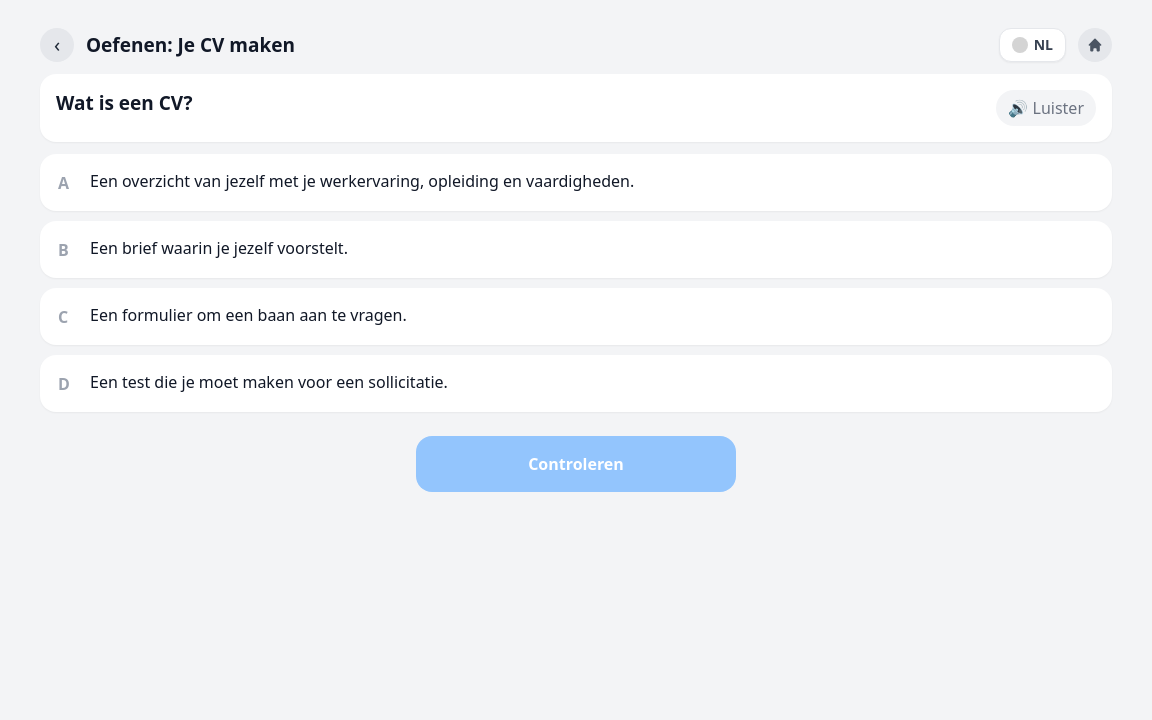
Test: selecting wrong answer (B) shows negative feedback
Click the text "Een brief waarin je jezelf voorstelt.". click: (219, 248)
box: [90,237,348,259]
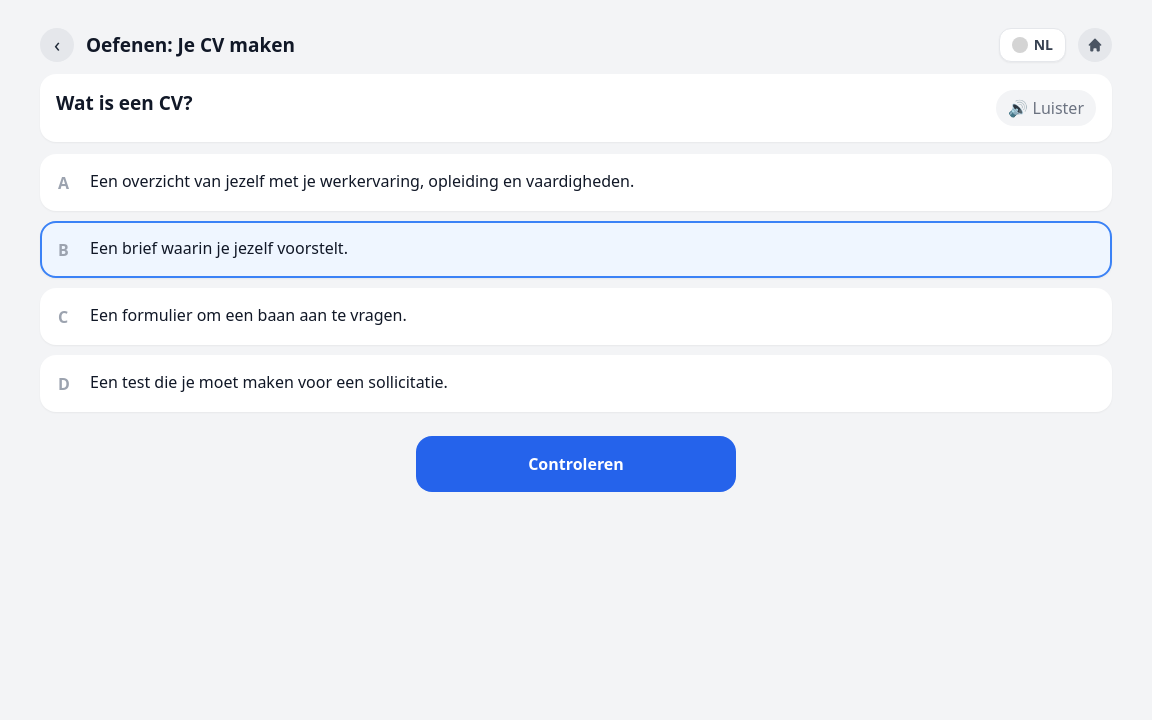
Click the button "Controleren". click: (576, 464)
box: [416,436,736,492]
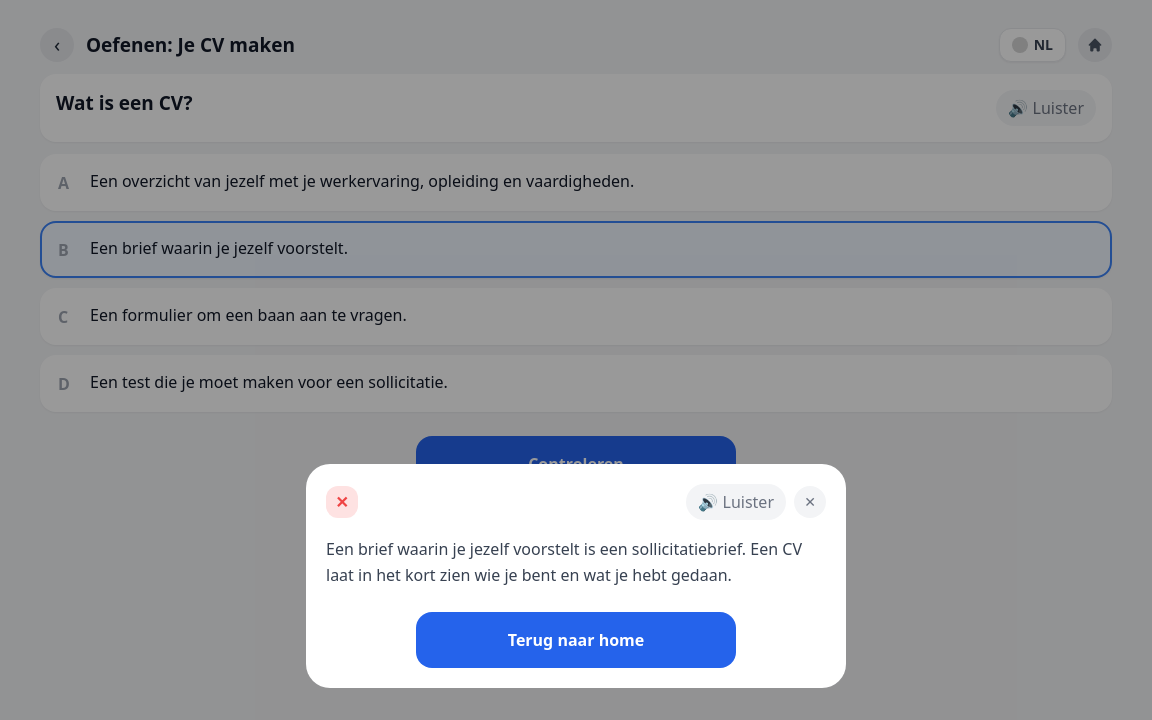
Expected: the text "sollicitatiebrief" is shown, [326,538,802,586]
